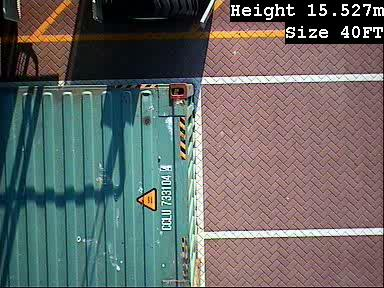groundmarker_2: (1, 195, 93, 273)
